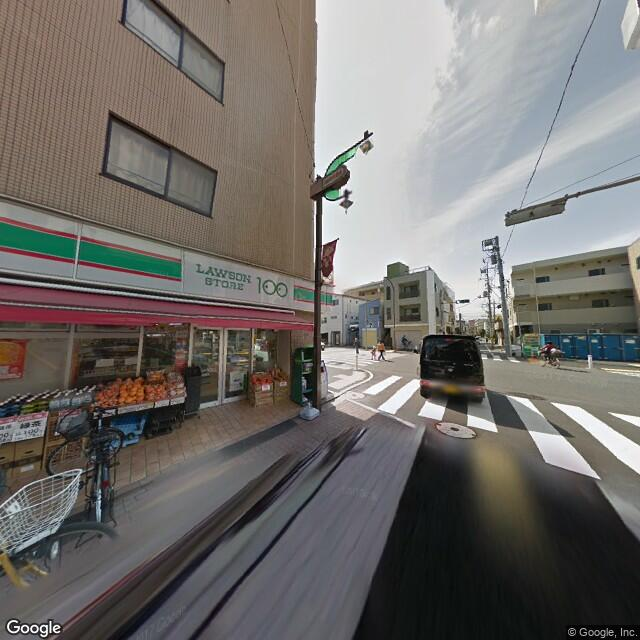lawson: (1, 202, 315, 315)
